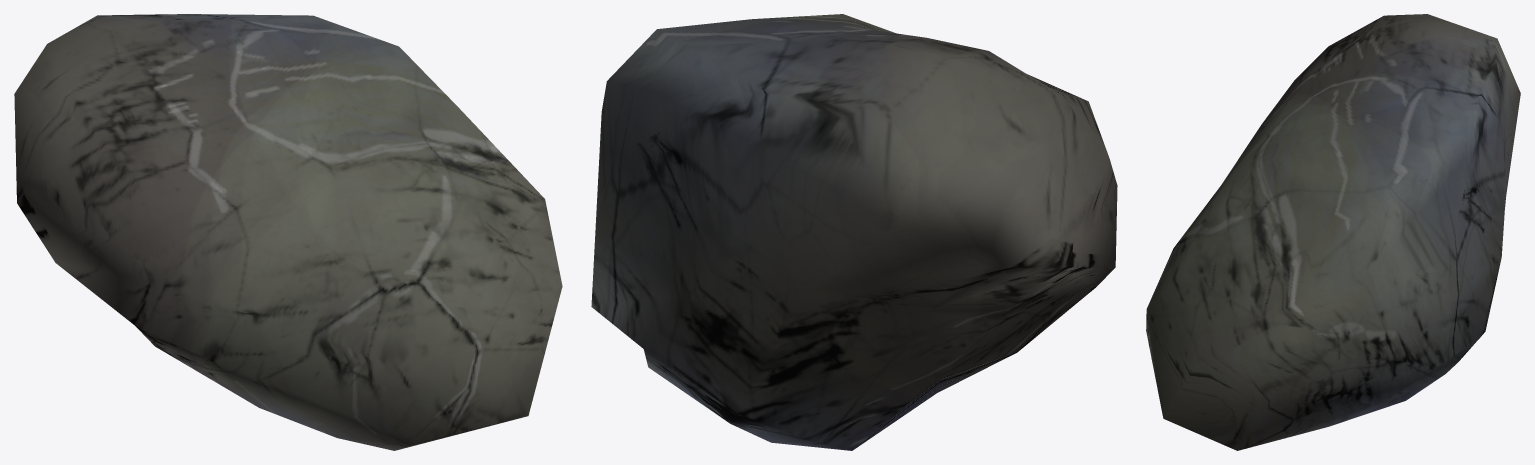
The model's file is Rock_03A.fbx.
3 views of the same model, side by side, from view 1: azimuth 30°, elevation 25°; view 2: azimuth 150°, elevation 25°; view 3: azimuth 270°, elevation 25° (orthographic). The views are drawn at different scales.
Parts seen in each view (by area): view 1: Rock01:Mesh7; view 2: Rock01:Mesh7; view 3: Rock01:Mesh7.
Boxes of the visible parts, left/top/right/bottom form: Rock01:Mesh7: left=14, top=14, right=562, bottom=450; Rock01:Mesh7: left=591, top=14, right=1117, bottom=450; Rock01:Mesh7: left=1146, top=14, right=1520, bottom=450.
Bounding box in the file's own units: 8.55 × 7.25 × 7.36.
